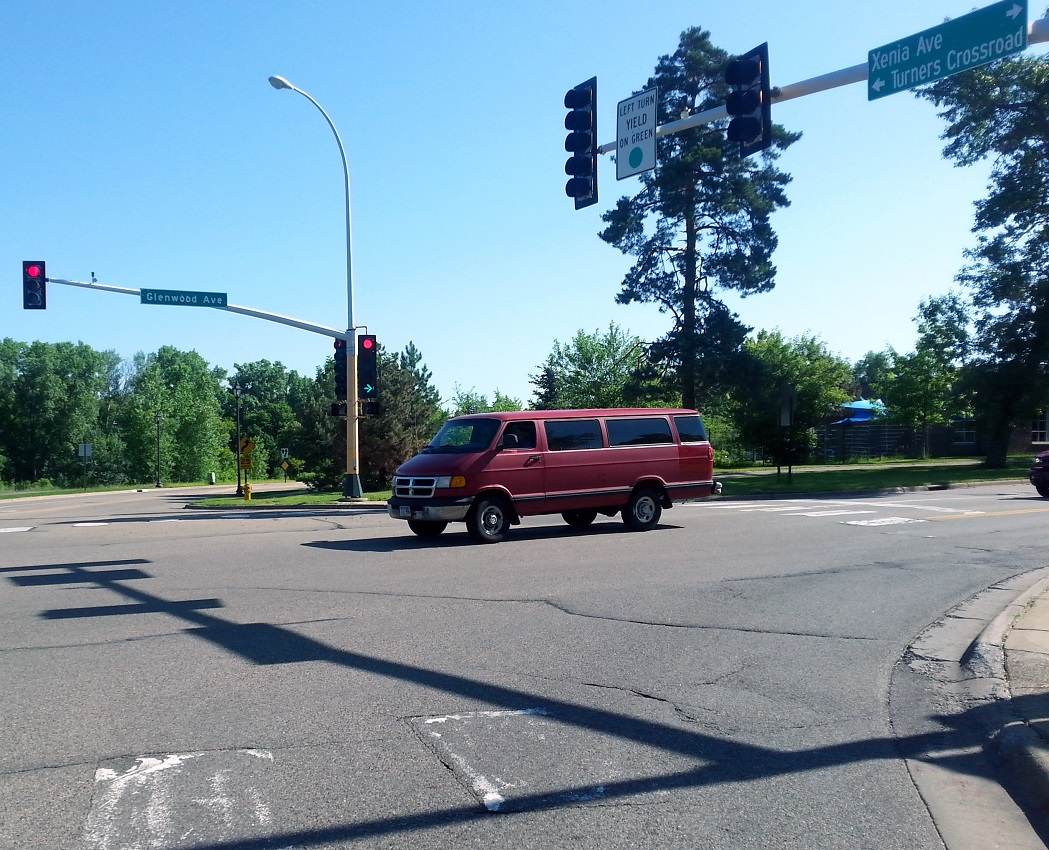traffic_light: (356, 333, 379, 400), (21, 259, 48, 312)
